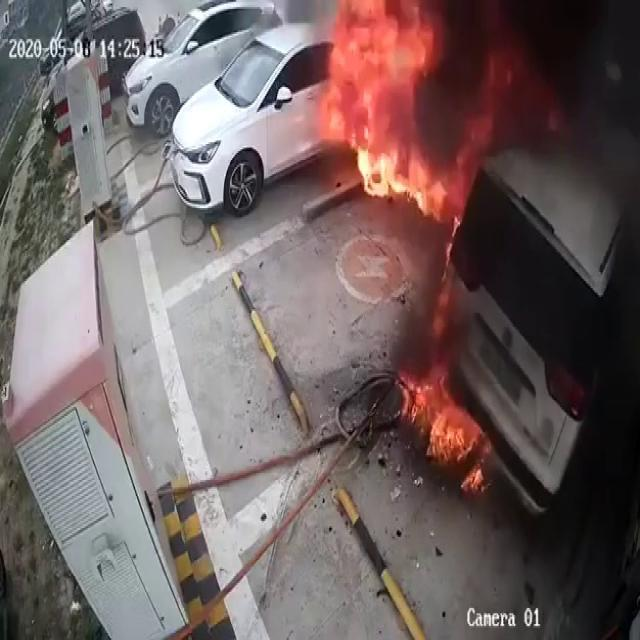Fire: (319, 2, 452, 208), (398, 363, 482, 478)
Smoke: (426, 1, 640, 218)
